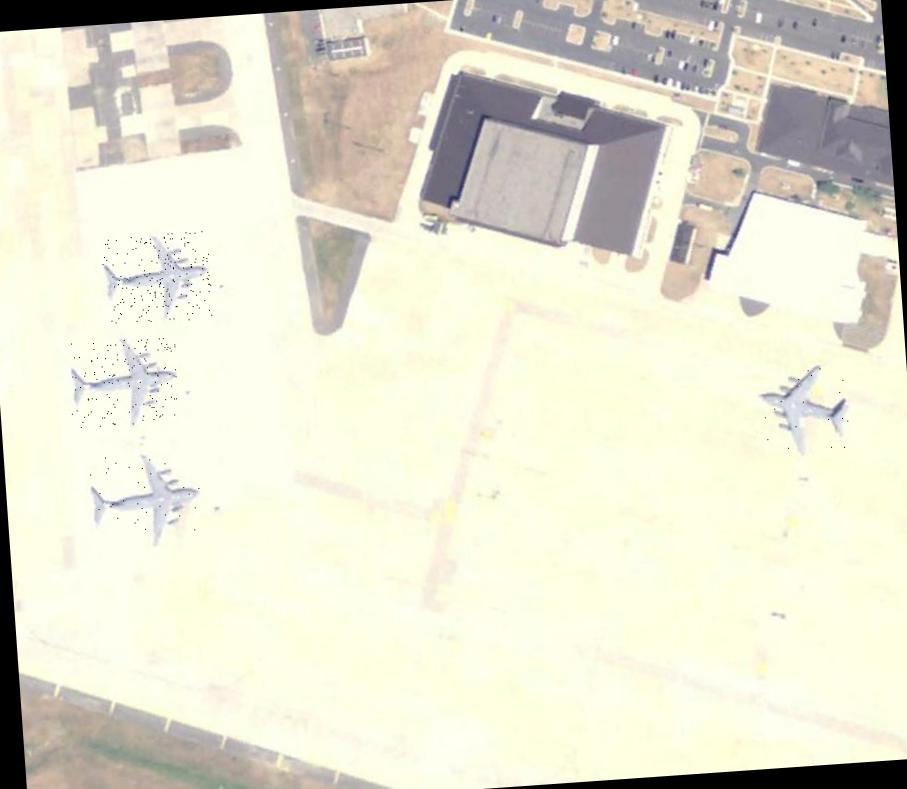A3: (87, 450, 203, 548), (99, 230, 213, 325), (66, 336, 182, 428), (757, 362, 855, 452)
